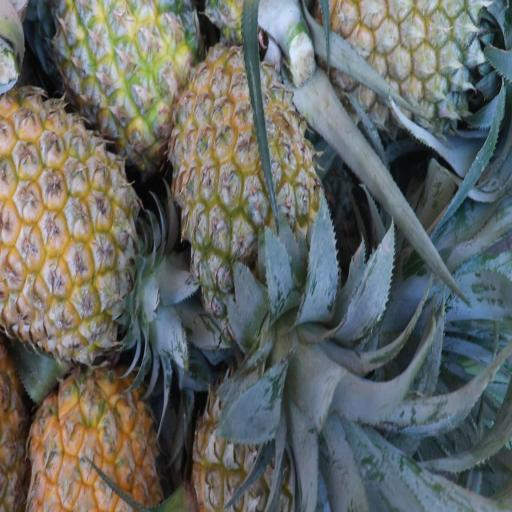------------------------------: (176, 54, 309, 305), (192, 361, 320, 512)
Pineapple - v8 v1: (0, 105, 145, 345), (52, 0, 196, 155), (23, 357, 159, 512)
